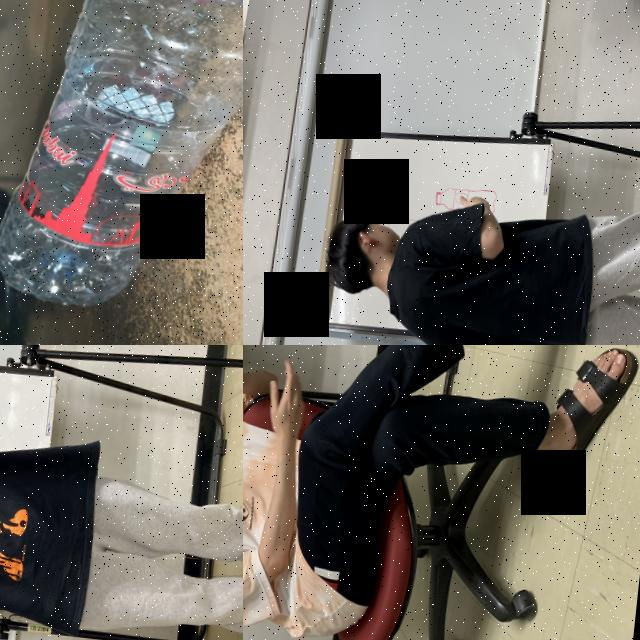bottle: (0, 0, 243, 325)
